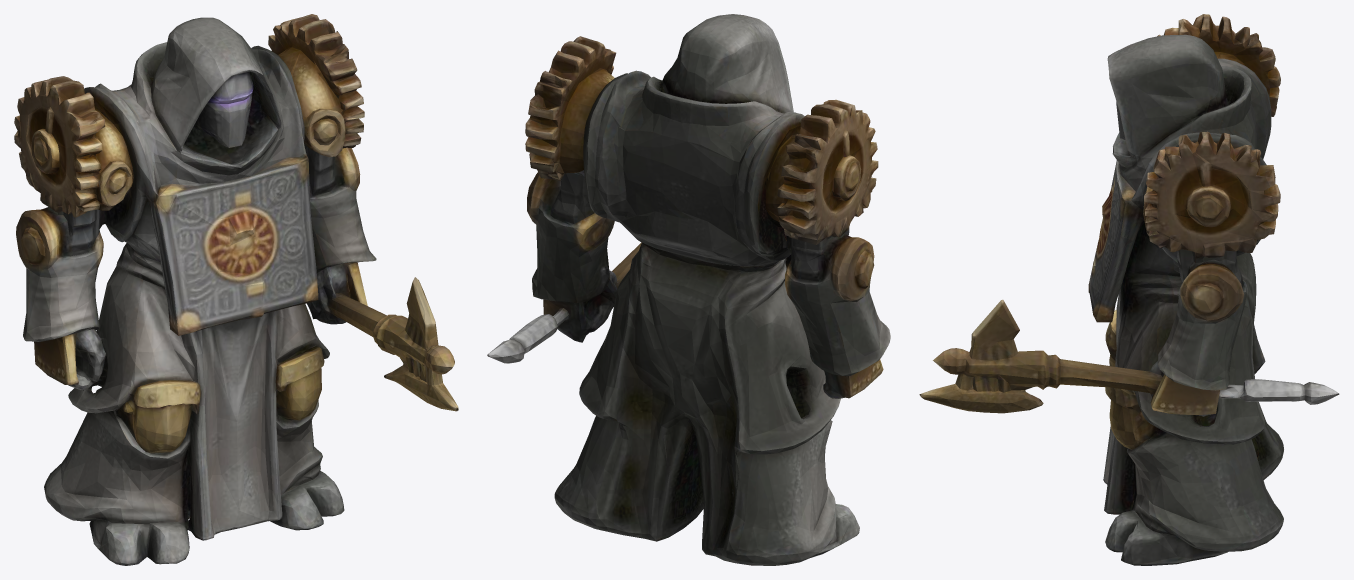
The model's file is academyWardenConstruct.glb.
3 renders of one model, left to right at view 1: azimuth 30°, elevation 25°; view 2: azimuth 150°, elevation 25°; view 3: azimuth 270°, elevation 25°, orthographic. The views are drawn at different scales.
Parts seen in each view (by area): view 1: world; view 2: world; view 3: world.
Boxes of the visible parts, box(x1,y1,x2,y2) form: world: box(14, 14, 458, 565); world: box(487, 14, 890, 565); world: box(919, 14, 1339, 565).
Size of the model in its own units: 0.7237 by 0.998 by 0.8015.
1 material, 1 textured.
